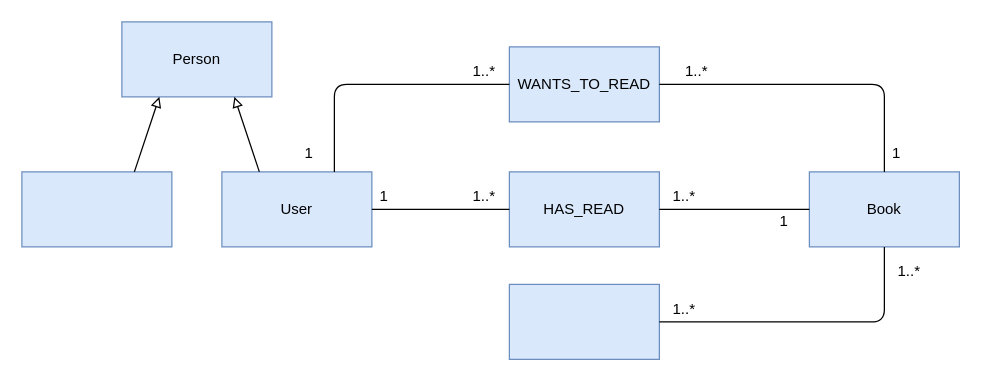
The diagram is 981 pixels wide and 381 high, and some of its shapes have lost their labels. Here are the shapes that lost their labels. From the top down, the centre of each, then its label:
point (96, 209): Admin
point (583, 321): Tag
